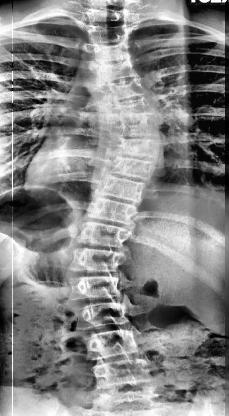Vertebrae: (70, 300, 134, 334), (80, 328, 144, 362), (81, 195, 143, 229), (61, 272, 123, 306), (66, 245, 128, 277), (75, 219, 134, 249), (100, 154, 160, 182), (92, 175, 150, 203), (92, 78, 152, 104), (102, 96, 162, 122), (108, 115, 166, 141), (110, 134, 166, 160), (80, 20, 134, 46), (84, 39, 136, 63), (89, 58, 141, 82), (79, 3, 133, 25)
